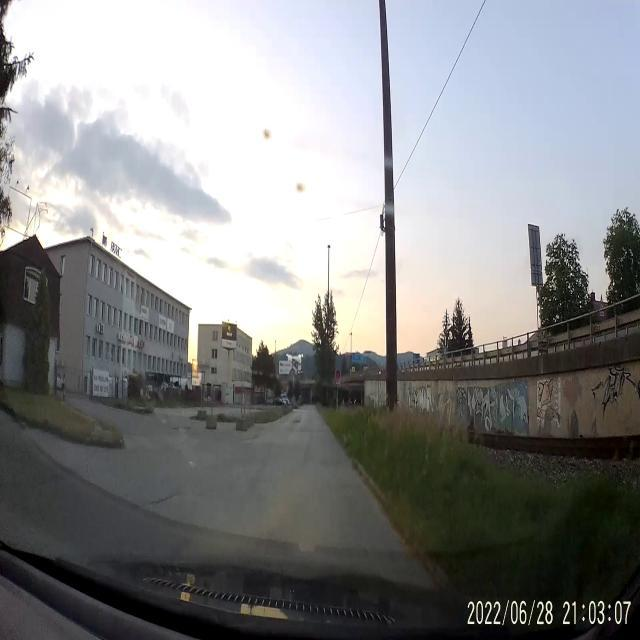Pothole: (140, 492, 180, 510), (294, 418, 302, 424)
